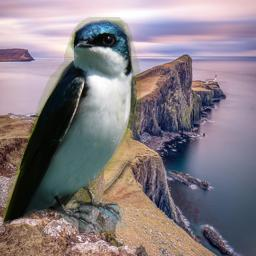Swallow: (3, 17, 141, 232)
